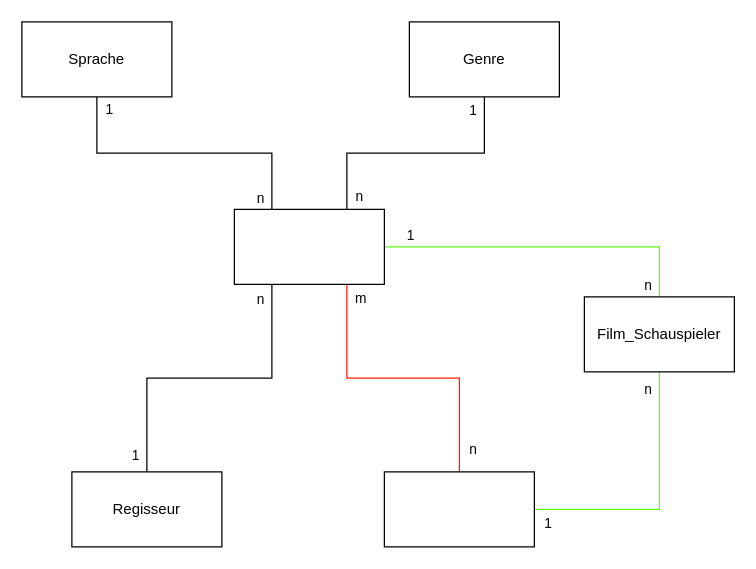
The diagram is 756 pixels wide and 569 high, and some of its shapes have lost their labels. Here are the shapes that lost their labels. From the top down, the centre of each, then its label:
pixel 308 246: Film
pixel 458 509: Schauspieler
